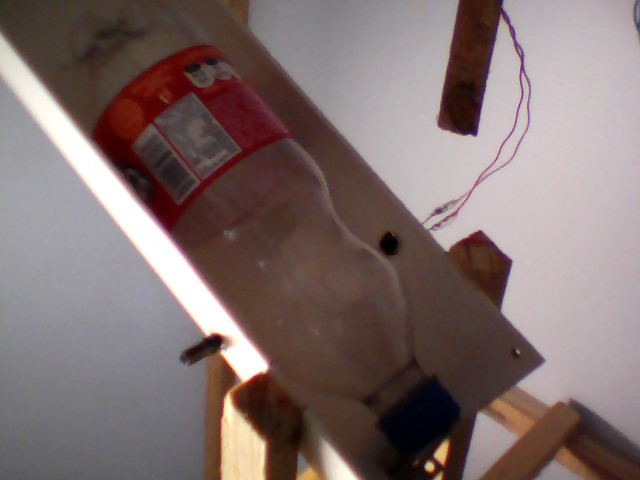plastico: (50, 1, 464, 457)
